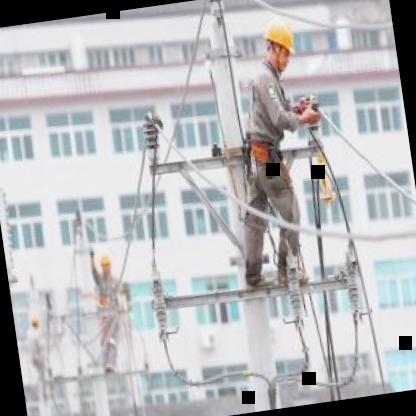helmet: (257, 10, 300, 76), (97, 250, 114, 274)
